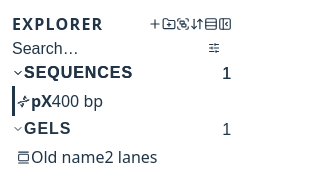
it: inline rename › keeps focus in the rename field when the tree re-renders
Press End in the element showing "Sequences 1 Sequences 1 pX 400 bp Gels 1 Old name 2 lanes", box [12,60,232,172]
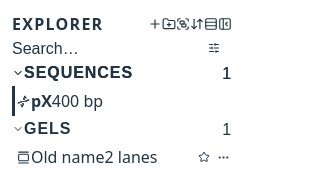
Press F2 in the list item "Old name 2 lanes", box [12,142,232,172]
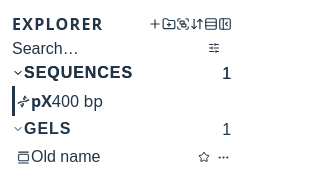
Replace the text in the field with class "ex-rename-input" with "New name" at (113, 157), box [31,148,195,166]
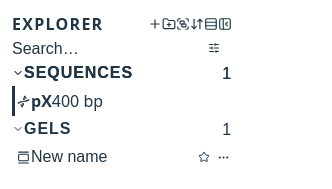
Press Enter in the field with class "ex-rename-input", box [31,148,195,166]
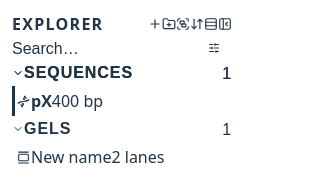
Check: the text "New name" is shown, box [31,145,112,169]
